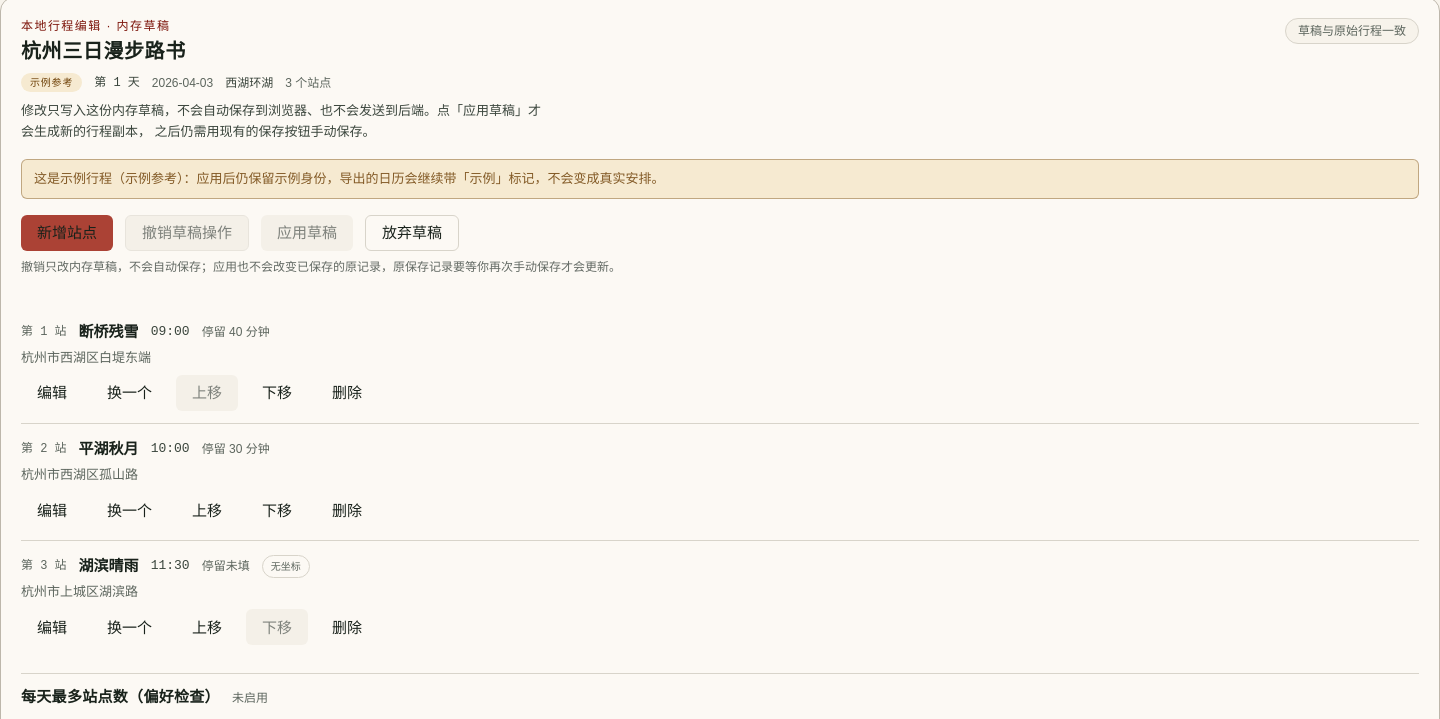
Scenario: TripDraftEditor · 换一个入口 › 确认替换后草稿里的站点与相邻路段都被改，其它天不动
This screenshot has width=1440, height=719.
Click the button with test id "stop-swap-open-s1" at (130, 393), box [91,375,168,411]
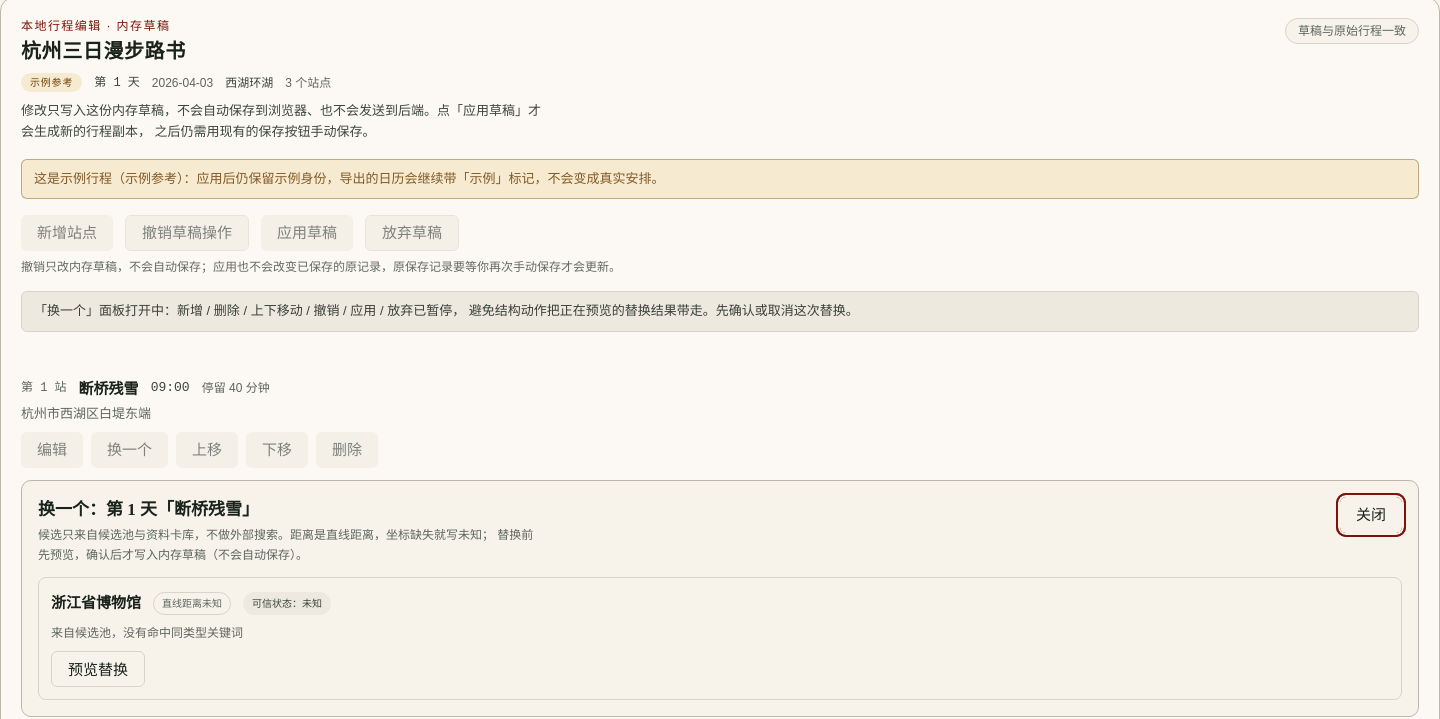
Click the button "预览替换" at (98, 669), box [51,651,145,687]
(page scrolled)
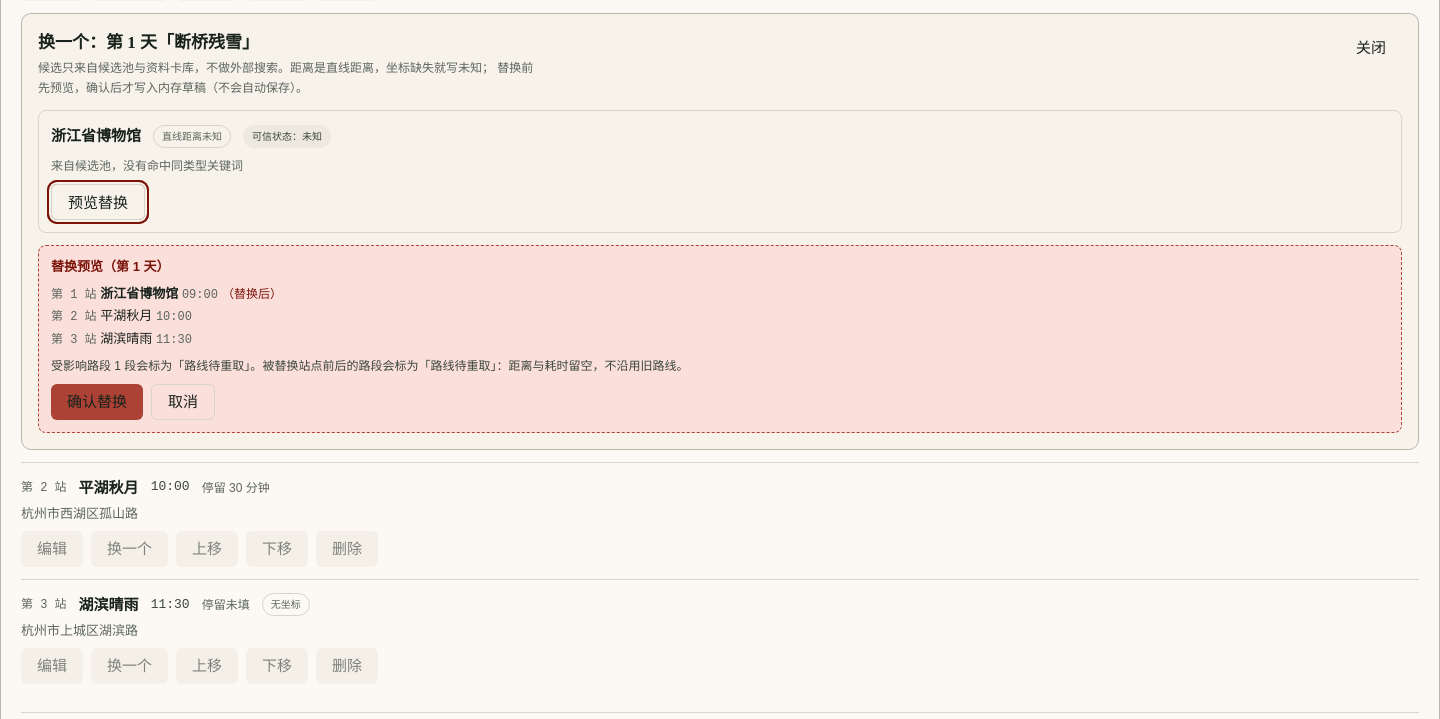
Click the button "确认替换" at (97, 402), box [51,384,143,420]
(page scrolled)
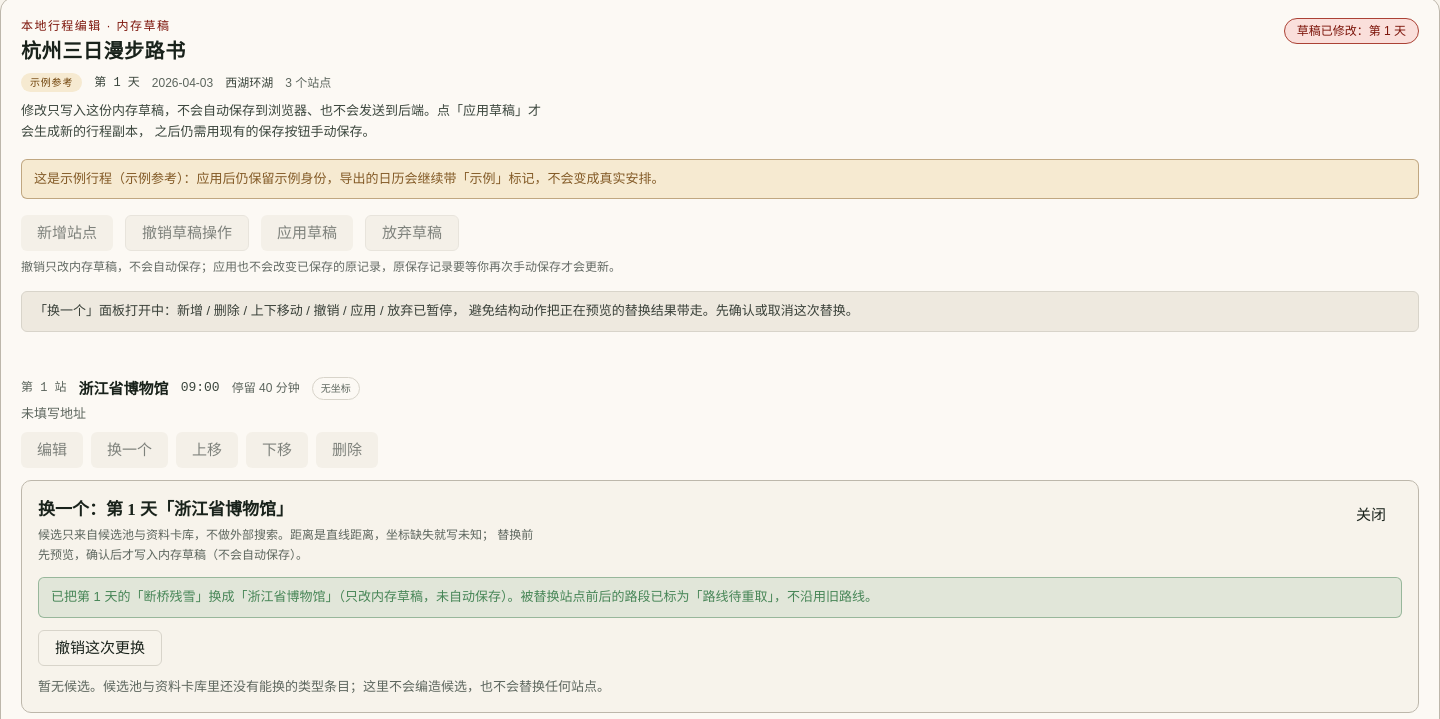
Result: the text "浙江省博物馆" is shown at [79,376,169,401]
